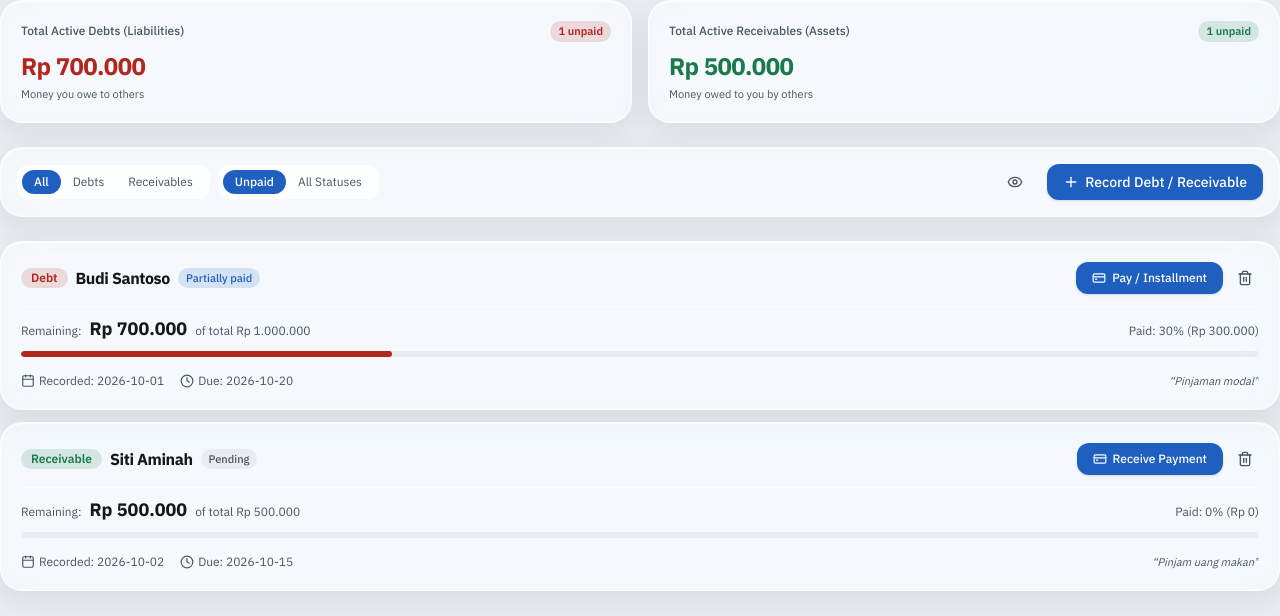
Test: DebtView › toggles privacy mode when eye button is clicked
Check: the text "Rp 700.000" below "Total Active Debts (Liabilities)" is shown, box [21,50,145,82]
Click toggle button
Click the button named "Hide balances" at (1015, 182), box [991,166,1039,198]
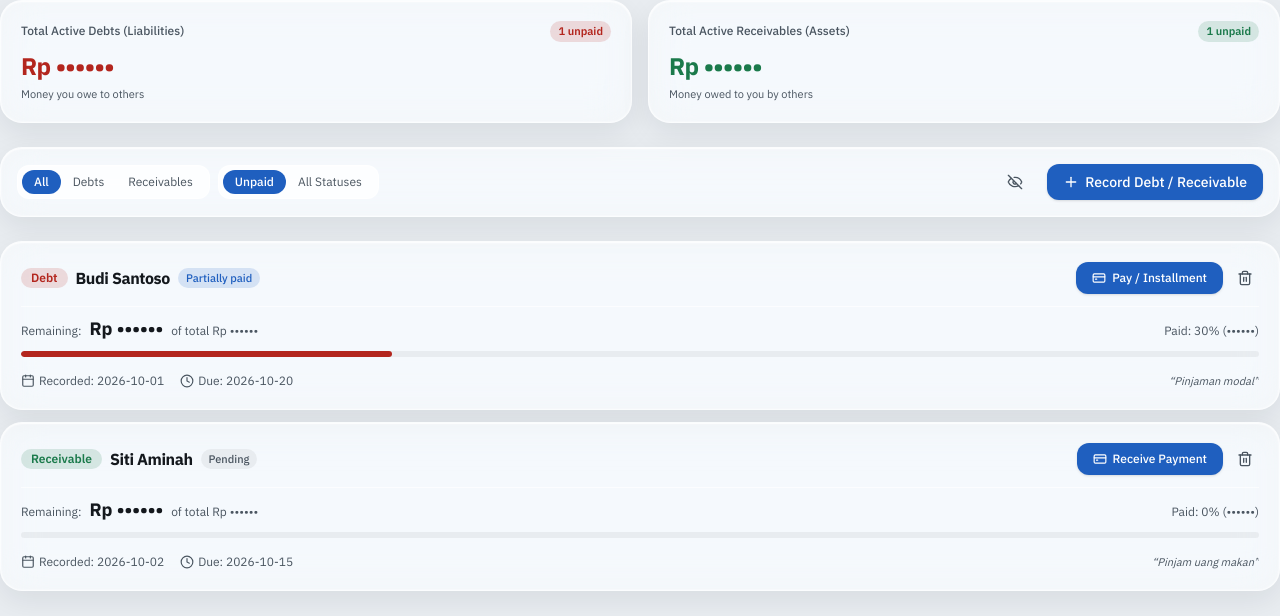
Check: the text "Rp ••••••" below "Total Active Debts (Liabilities)" is shown, box [21,50,114,82]
